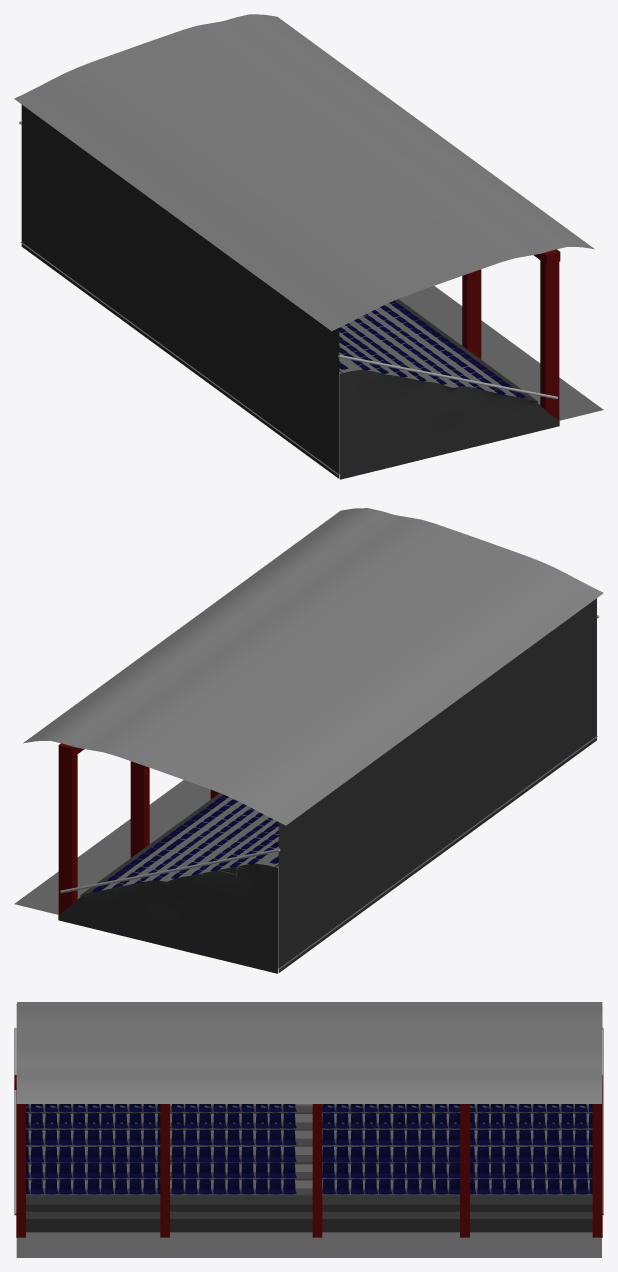
Rendered from main_tribune.dae.
3 renders of one model, top to bottom at view 1: azimuth 30°, elevation 25°; view 2: azimuth 150°, elevation 25°; view 3: azimuth 270°, elevation 25°, orthographic. The views are drawn at different scales.
Parts seen in each view (by area): view 1: pPlane27, pPlane2, pPlane26, pPlane1, pCube1, pCube2, pPlane10, pPlane6, pCylinder1, pPlane8, pPlane11, pPlane13 (+1 smaller); view 2: pPlane27, pPlane2, pPlane25, pPlane1, pCube5, pCube4, pPlane10, pPlane6, pCylinder2, pPlane8, pPlane11, pPlane13 (+1 smaller); view 3: pPlane27, pPlane1, pPlane3, pPlane4, pPlane6, pPlane5, pPlane16, pPlane18, pPlane11, pCube5, pCube3, pCube1 (+12 smaller).
Part boxes in pixels (<box>): pPlane27: <box>14,14,594,331</box>; pPlane2: <box>21,105,339,478</box>; pPlane26: <box>340,370,559,479</box>; pPlane1: <box>20,242,603,474</box>; pCube1: <box>540,260,559,420</box>; pCube2: <box>462,269,481,359</box>; pPlane10: <box>375,307,496,393</box>; pPlane6: <box>390,299,536,401</box>; pCylinder1: <box>338,354,557,399</box>; pPlane8: <box>384,303,516,396</box>; pPlane11: <box>363,311,475,388</box>; pPlane13: <box>358,316,458,387</box>; pPlane27: <box>23,508,603,825</box>; pPlane2: <box>278,598,596,972</box>; pPlane25: <box>58,863,277,973</box>; pPlane1: <box>14,736,597,968</box>; pCube5: <box>58,747,77,914</box>; pCube4: <box>130,761,149,857</box>; pPlane10: <box>123,801,242,885</box>; pPlane6: <box>80,793,227,895</box>; pCylinder2: <box>60,848,280,893</box>; pPlane8: <box>102,797,236,890</box>; pPlane11: <box>143,806,254,881</box>; pPlane13: <box>159,810,259,881</box>; pPlane27: <box>16,1002,602,1103</box>; pPlane1: <box>16,1232,601,1257</box>; pPlane3: <box>26,1112,592,1218</box>; pPlane4: <box>26,1219,592,1232</box>; pPlane6: <box>26,1197,592,1204</box>; pPlane5: <box>26,1204,592,1211</box>; pPlane16: <box>26,1122,592,1129</box>; pPlane18: <box>26,1105,591,1112</box>; pPlane11: <box>28,1146,592,1154</box>; pCube5: <box>592,1086,602,1237</box>; pCube3: <box>312,1104,322,1237</box>; pCube1: <box>16,1086,25,1237</box>.
Size of the model in its own units: 11.73 by 7.36 by 23.92.
